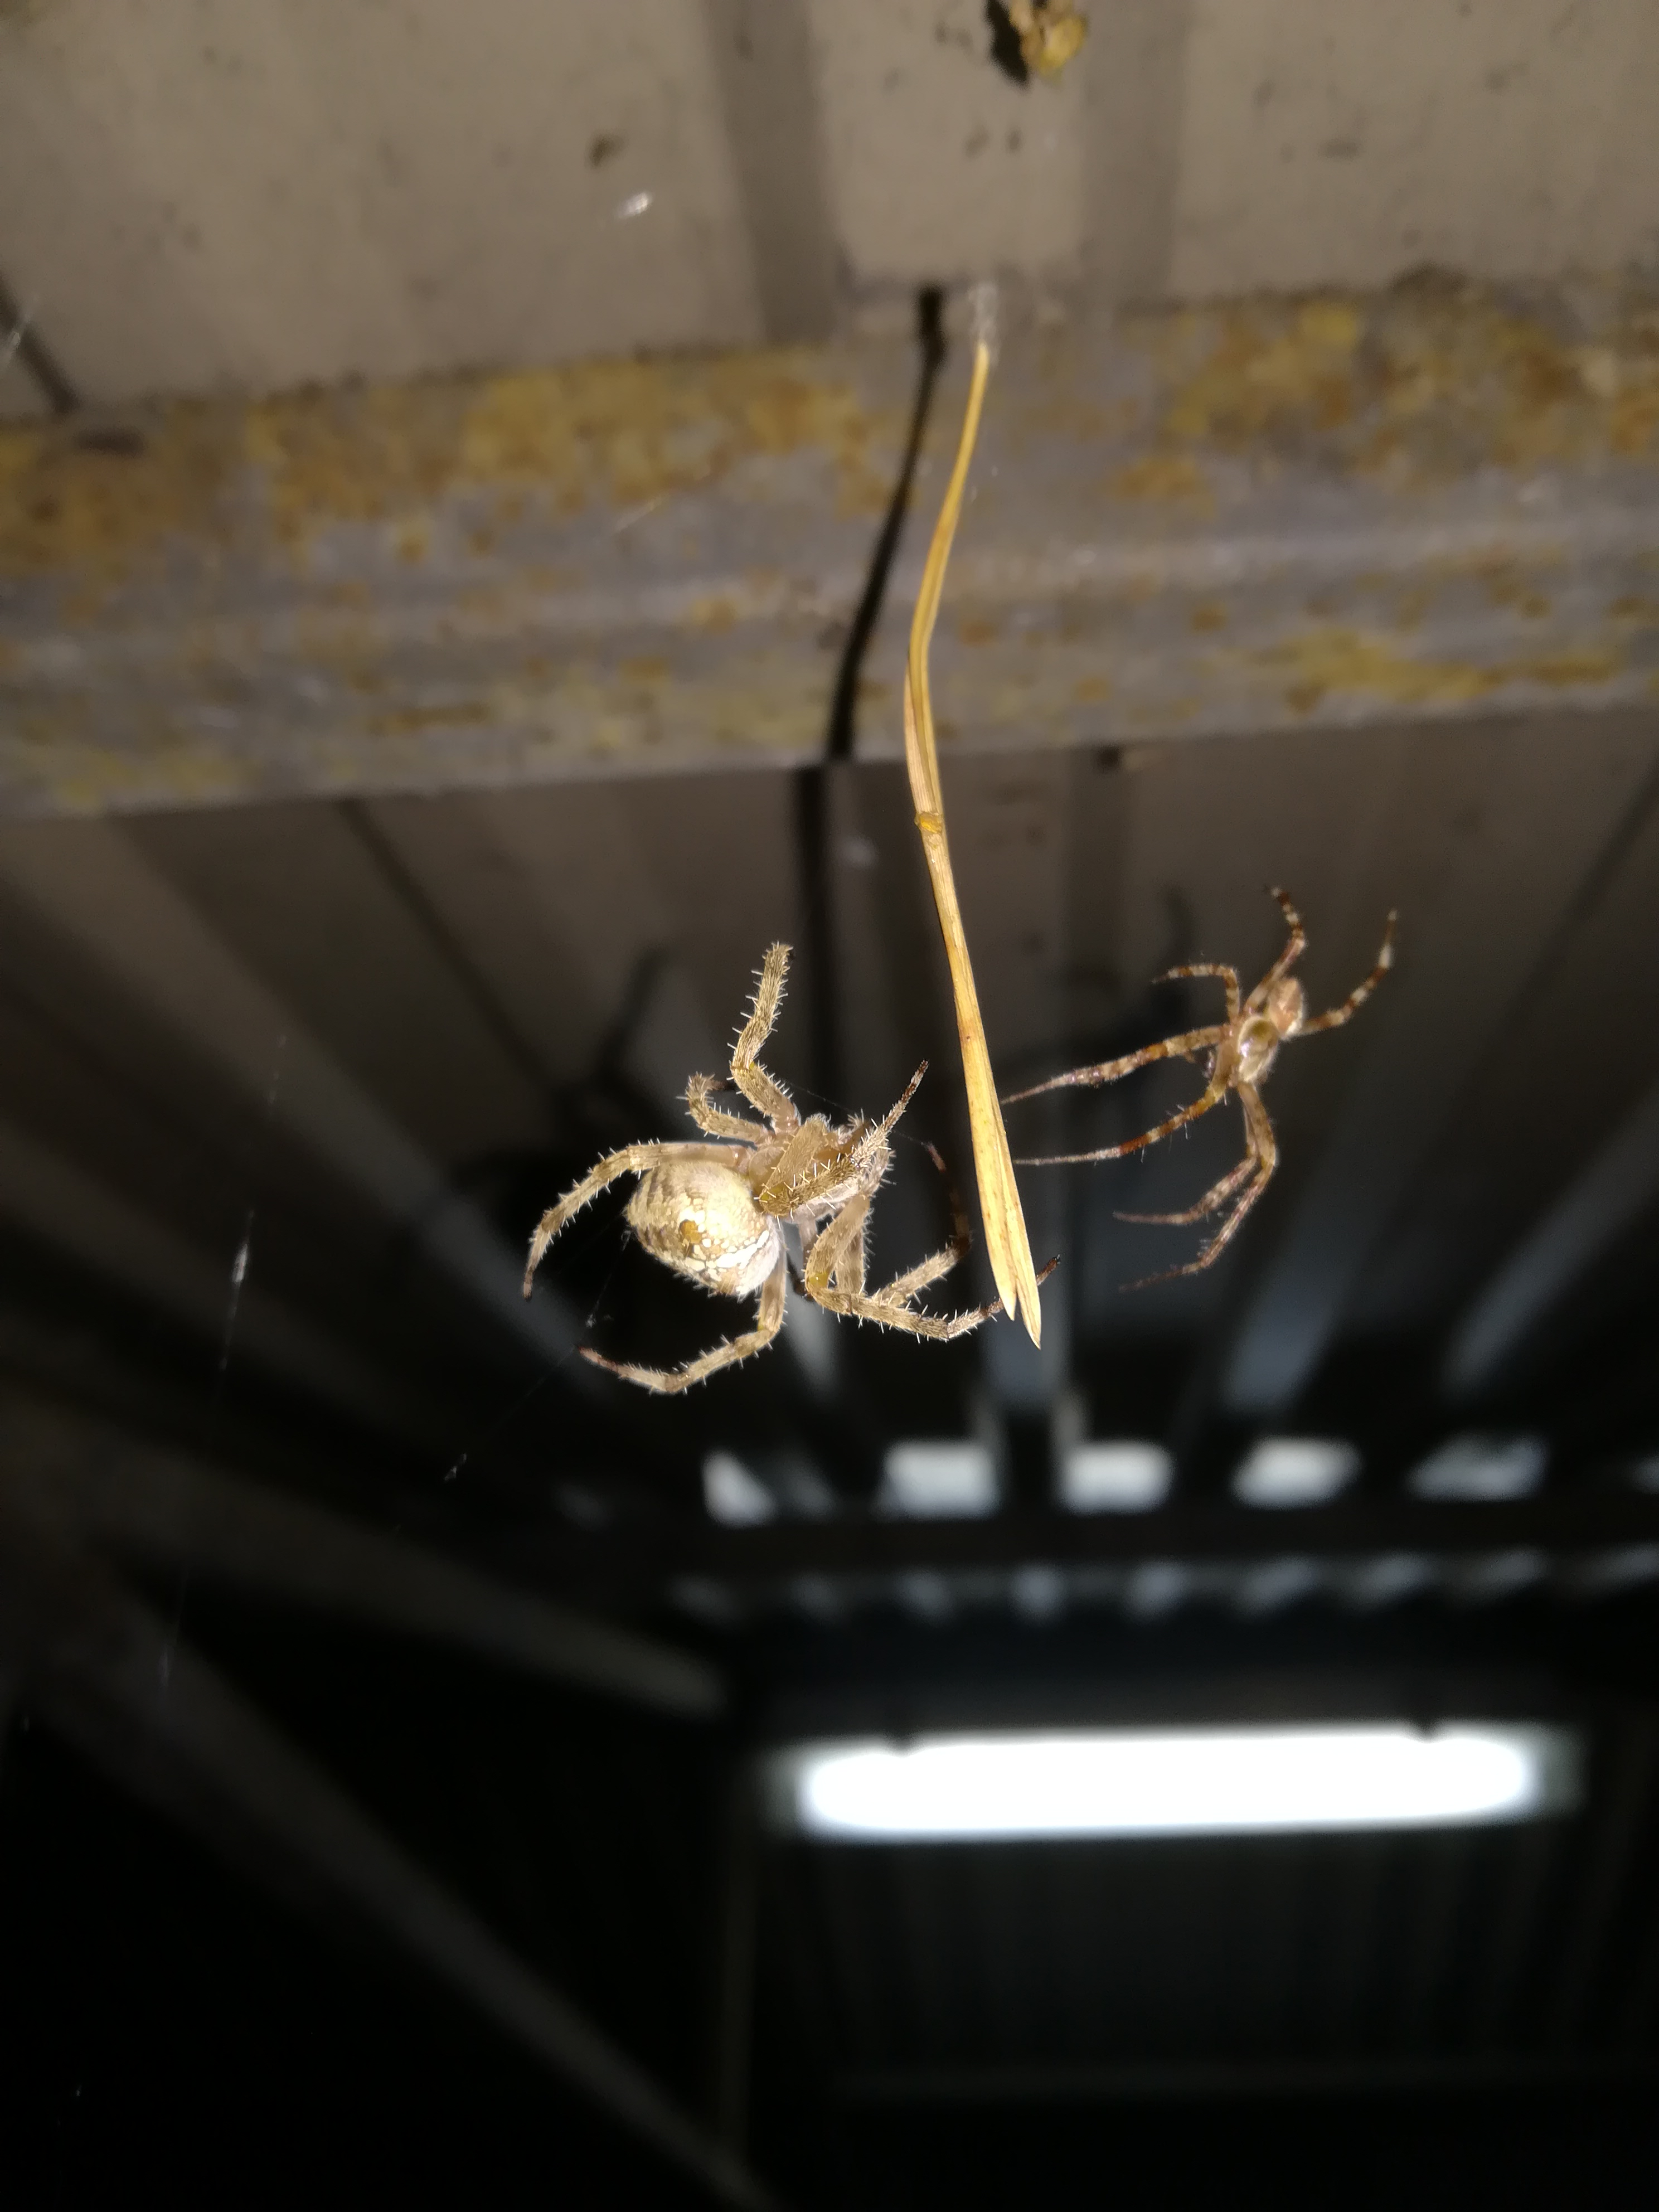spider: (397, 873, 1037, 1460), (974, 831, 1438, 1336)
